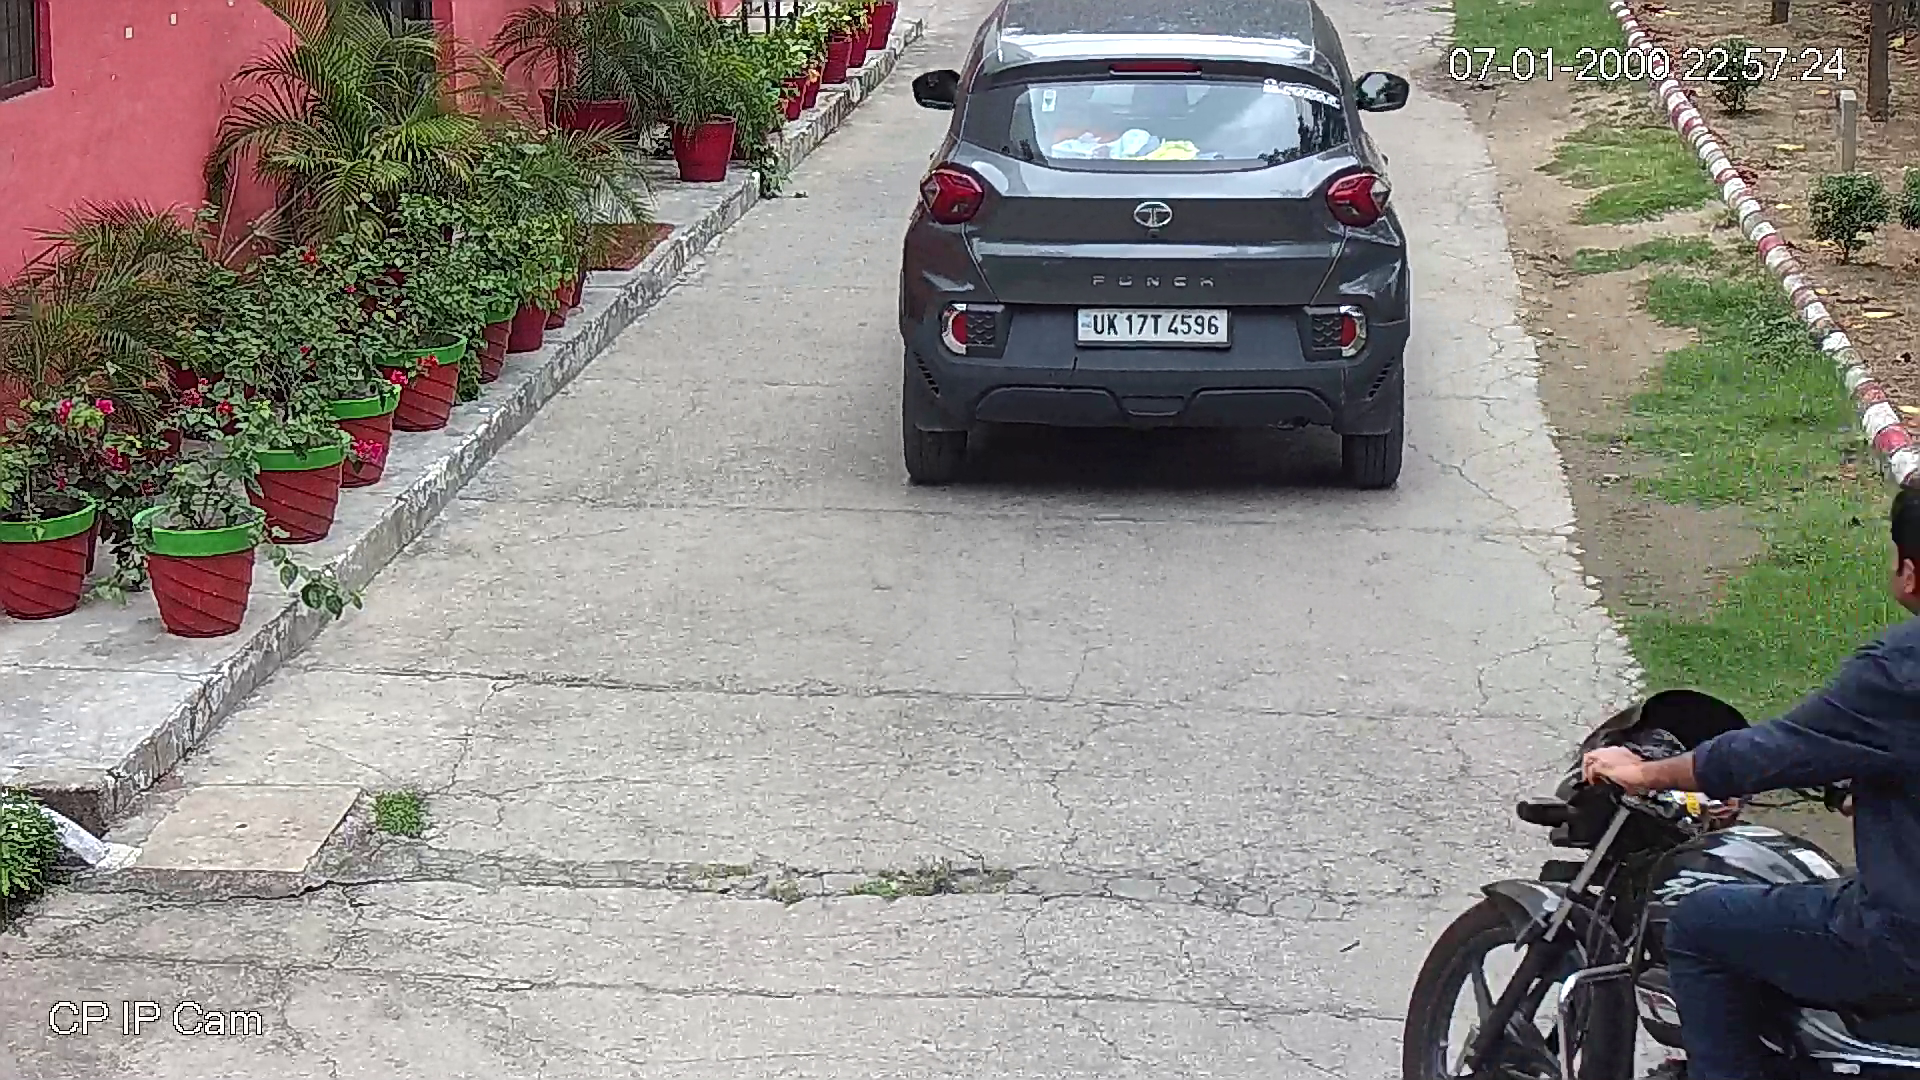plate: (1075, 308, 1231, 345)
